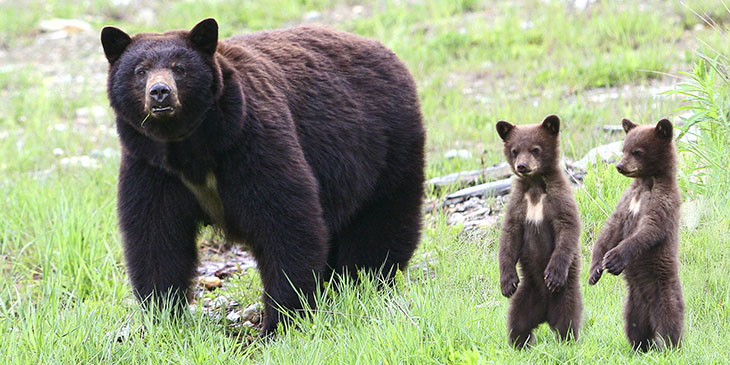bear: (99, 17, 226, 123), (494, 112, 564, 177), (616, 115, 679, 181)
